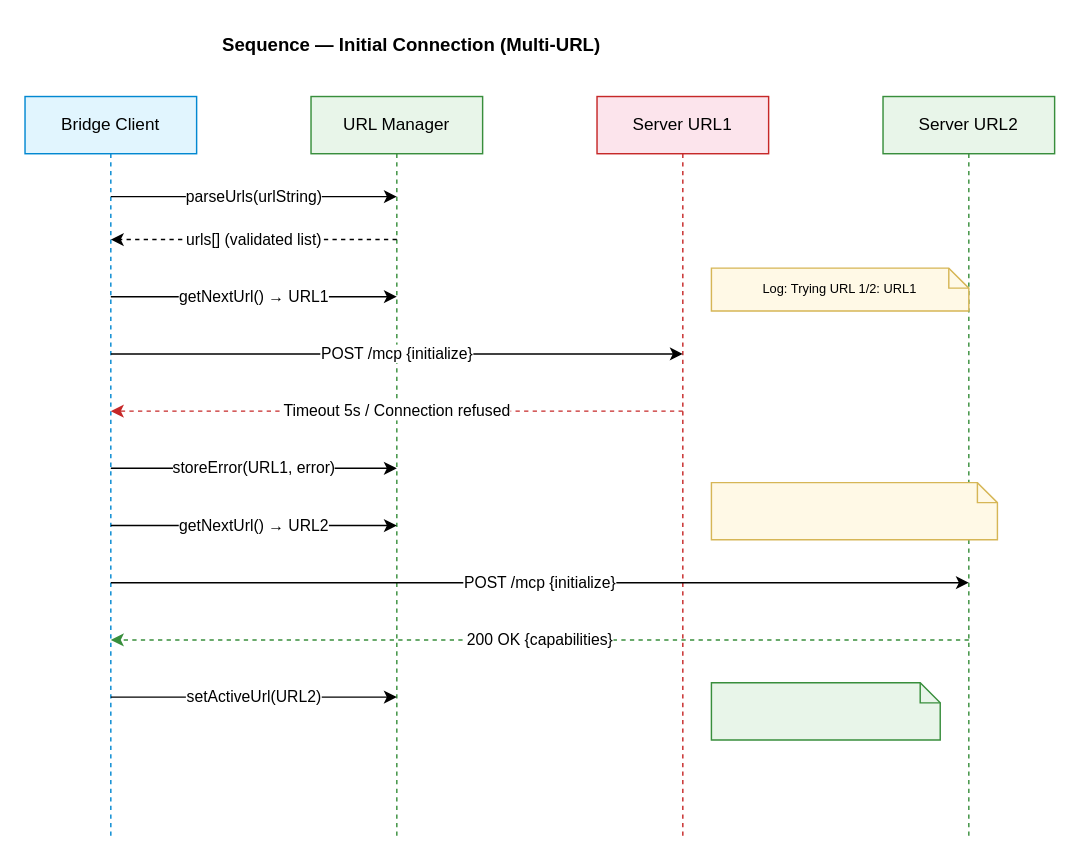
Image size: 1080x865. Some labels were removed from this diagram. Each missing label, with the centre of its shape:
"Log WARN: URL 1/2 failed Log: Trying URL 2/2: URL2" goes at [853,510].
"state = CONNECTED activeUrl = URL2" goes at [825,710].
